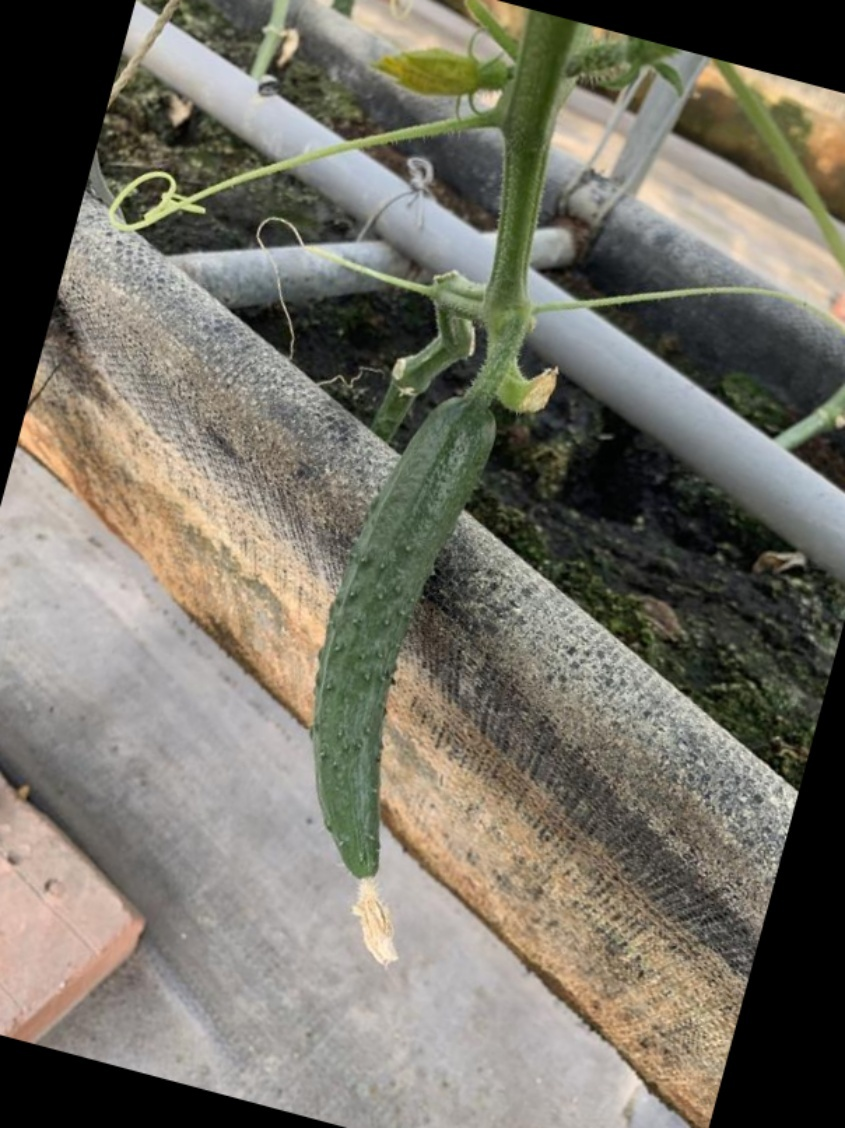mature: (290, 392, 503, 981)
